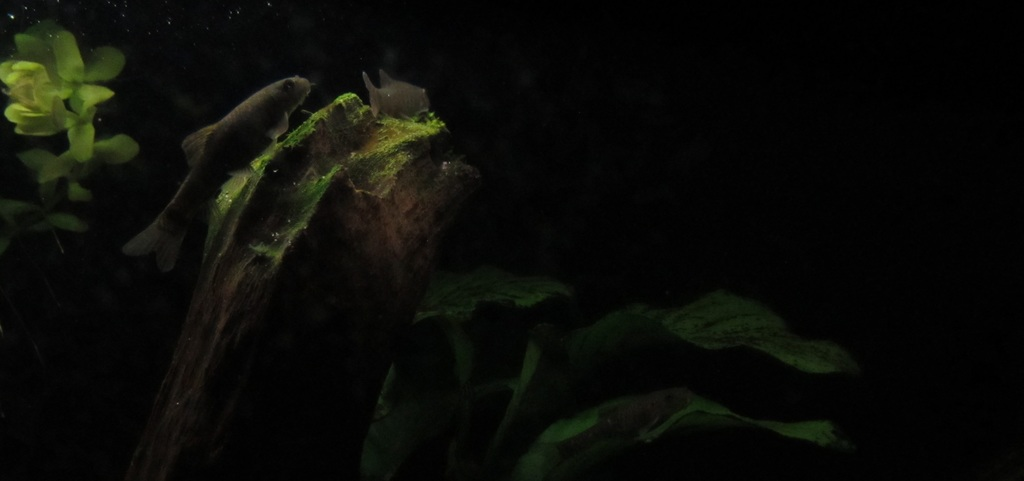Animal: (124, 68, 309, 270)
